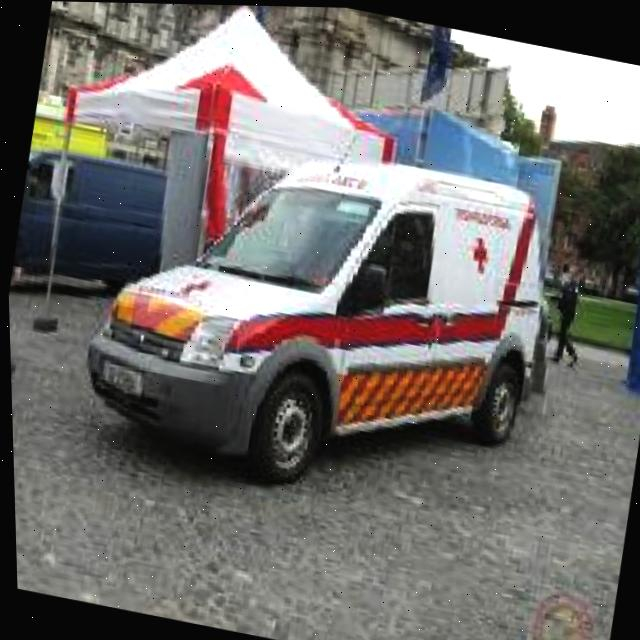emergency: (59, 103, 573, 531)
